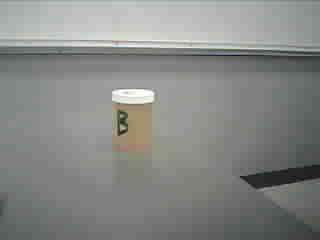Bottle B: (103, 84, 162, 157)
